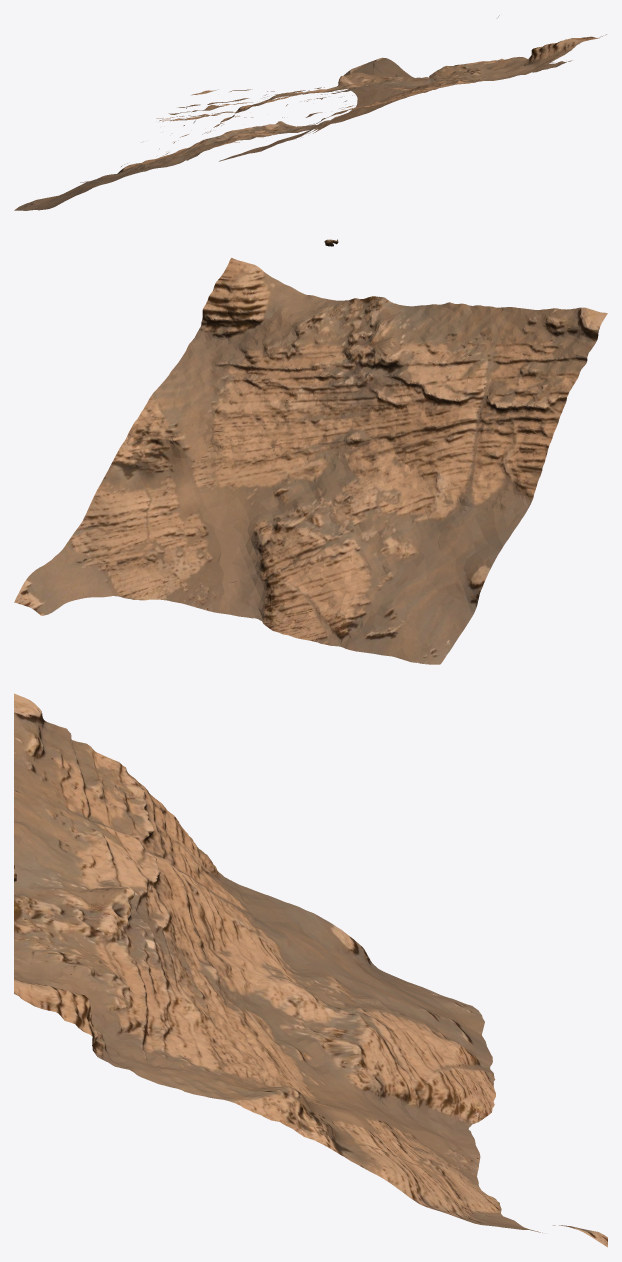
The picture shows the model from 3 angles, top to bottom: view 1: azimuth 30°, elevation 25°; view 2: azimuth 150°, elevation 25°; view 3: azimuth 270°, elevation 25°; orthographic projection. The views are drawn at different scales.
Size of the model in its own units: 1.04 by 0.6276 by 1.04.
Materials: 2 (2 with a texture image).
